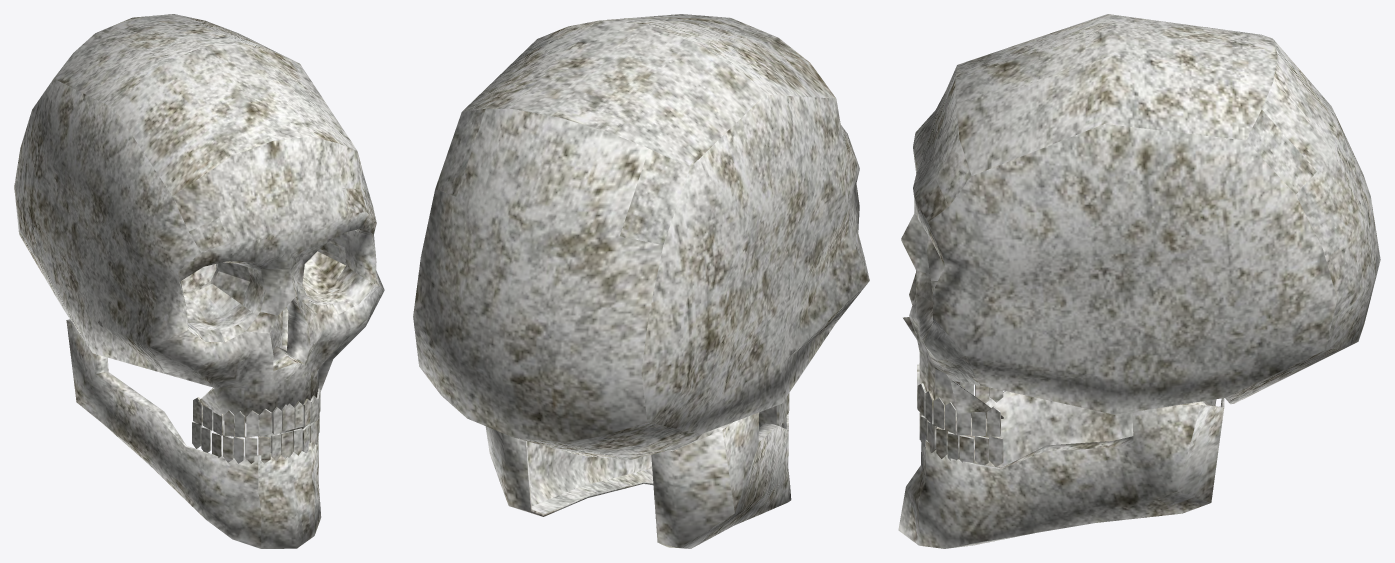
File: Skull.FBX
3 renders of one model, left to right at view 1: azimuth 30°, elevation 25°; view 2: azimuth 150°, elevation 25°; view 3: azimuth 270°, elevation 25°, orthographic. The views are drawn at different scales.
Visible parts, largest first — view 1: Object002; view 2: Object002; view 3: Object002.
Boxes of the visible parts, x1=… form: Object002: x1=14, y1=14, x2=384, y2=548; Object002: x1=413, y1=14, x2=869, y2=548; Object002: x1=898, y1=14, x2=1380, y2=548.
Bounding box in the file's own units: 71.67 × 127 × 110.
